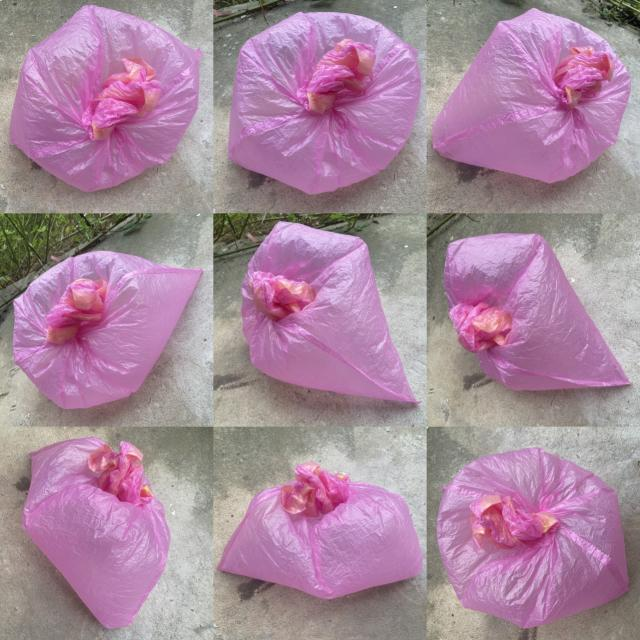Single-layer Plastic: (10, 5, 201, 191), (229, 12, 421, 194), (438, 448, 629, 629), (432, 9, 630, 182), (241, 221, 418, 402), (14, 251, 201, 409), (444, 234, 630, 390), (22, 438, 170, 628), (218, 462, 422, 599)
